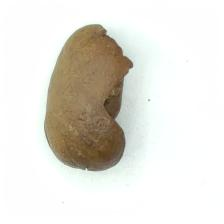NG: (97, 23, 134, 145)
